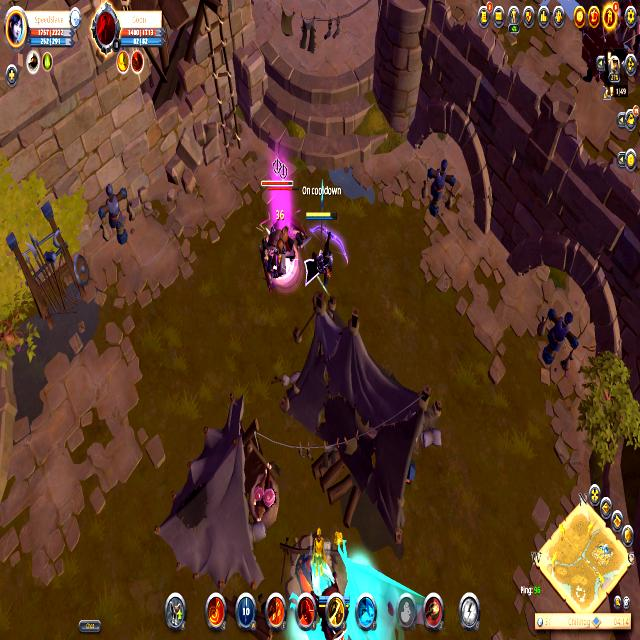ore: (256, 156, 300, 291)
red: (299, 207, 345, 291)
